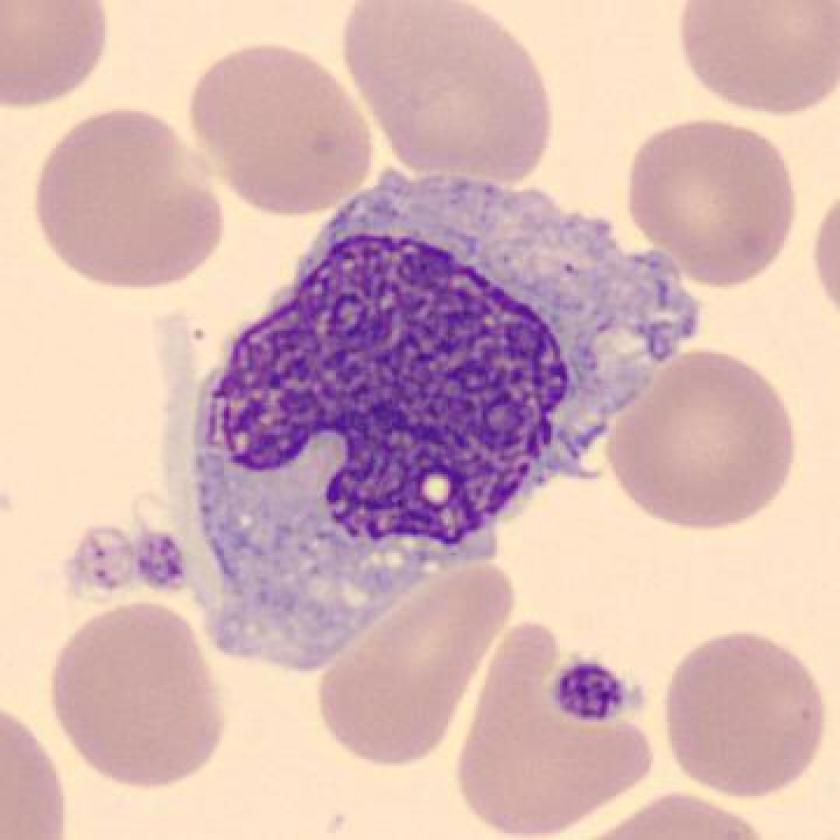monocyte: (150, 142, 720, 681)
